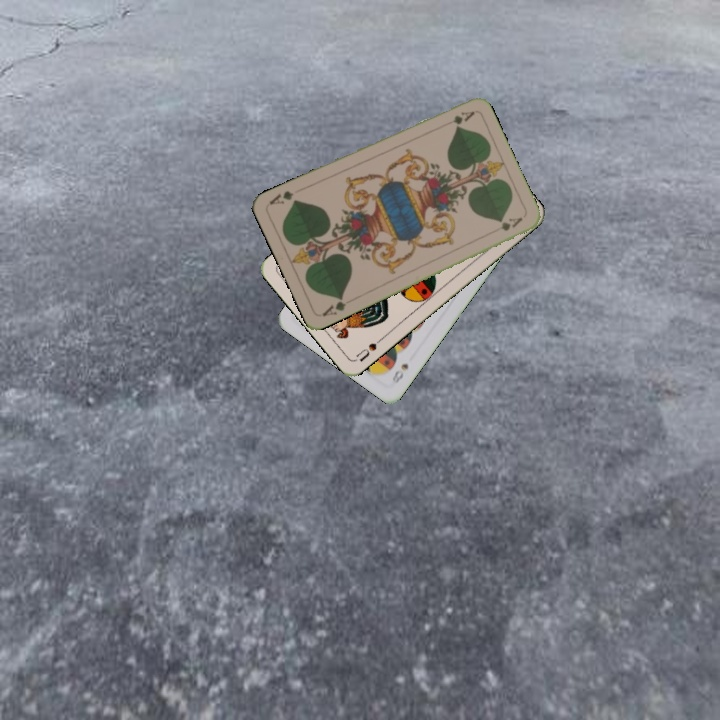GA: (438, 107, 477, 130), (318, 292, 349, 319)
S8: (388, 359, 411, 387)
SU: (352, 333, 386, 364)
